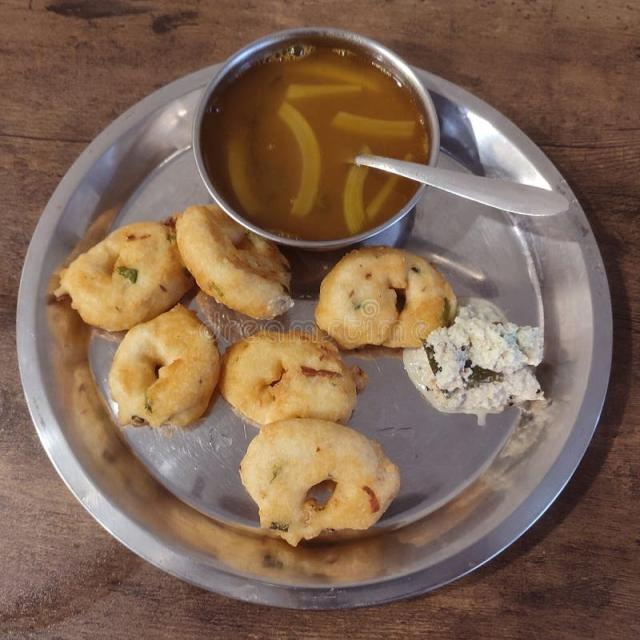MEDU VADA: (240, 419, 399, 546), (54, 222, 194, 331), (314, 247, 456, 349), (220, 333, 366, 427), (173, 205, 293, 318), (110, 304, 220, 427)
